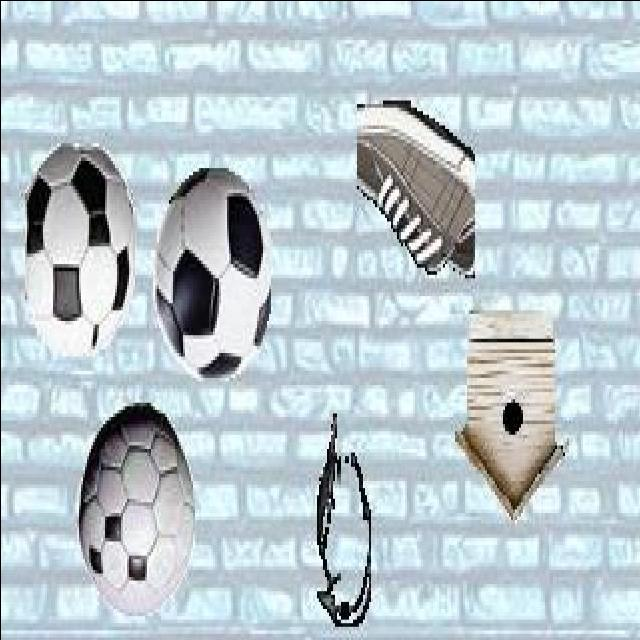Other Objects: (356, 99, 474, 276), (315, 413, 372, 628)
